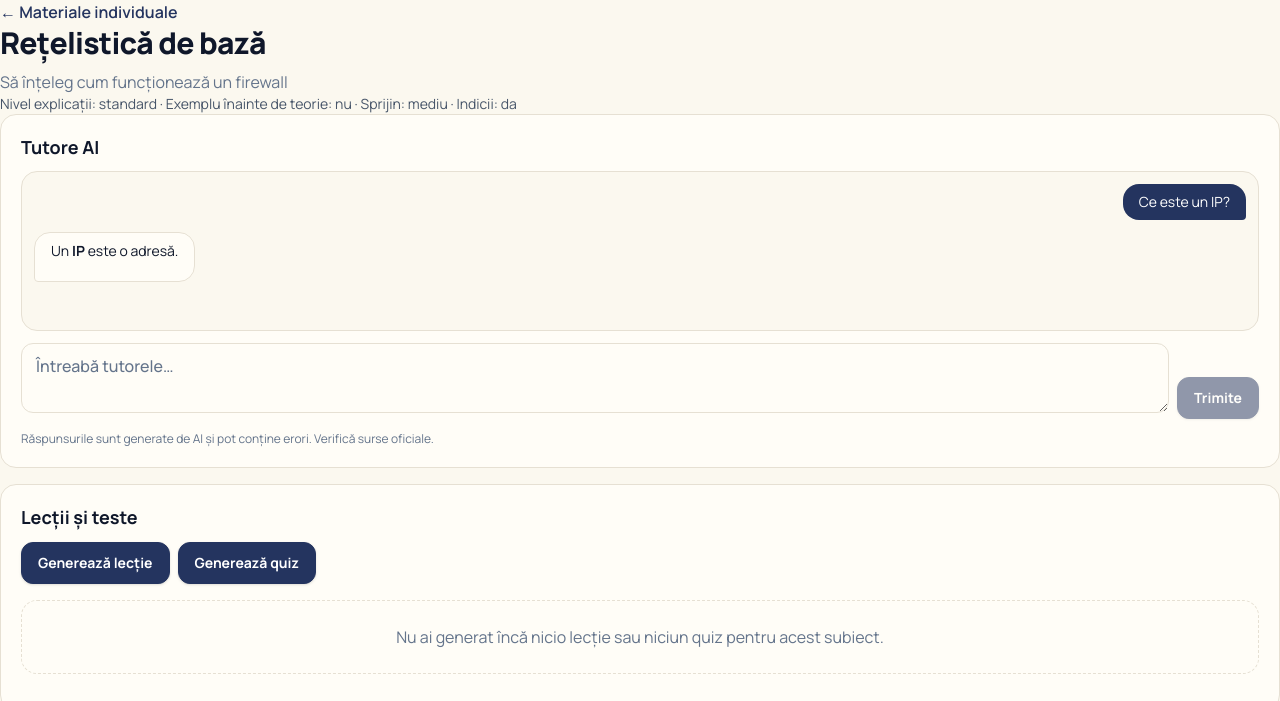
Test case: StudentTopicDetailPage › appends the student's message at once and the tutor's reply after a successful send
The width and height of the screenshot is (1280, 701).
Expected: the text "Ce este un IP?" is shown, [1123,184,1246,220]
Type "Dar un port?" into the text box named "Mesajul tău" at [595, 378], box [21,343,1169,413]
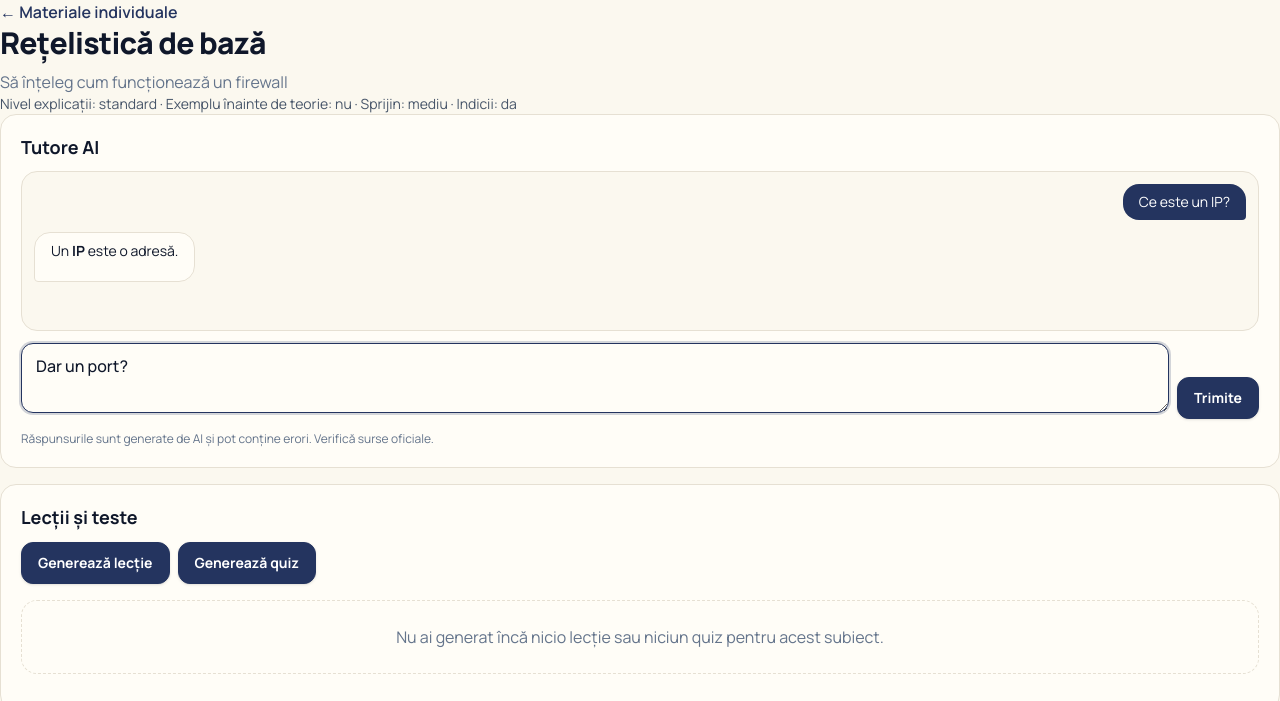
Click the button "Trimite" at [1218, 398], box [1177,377,1259,419]
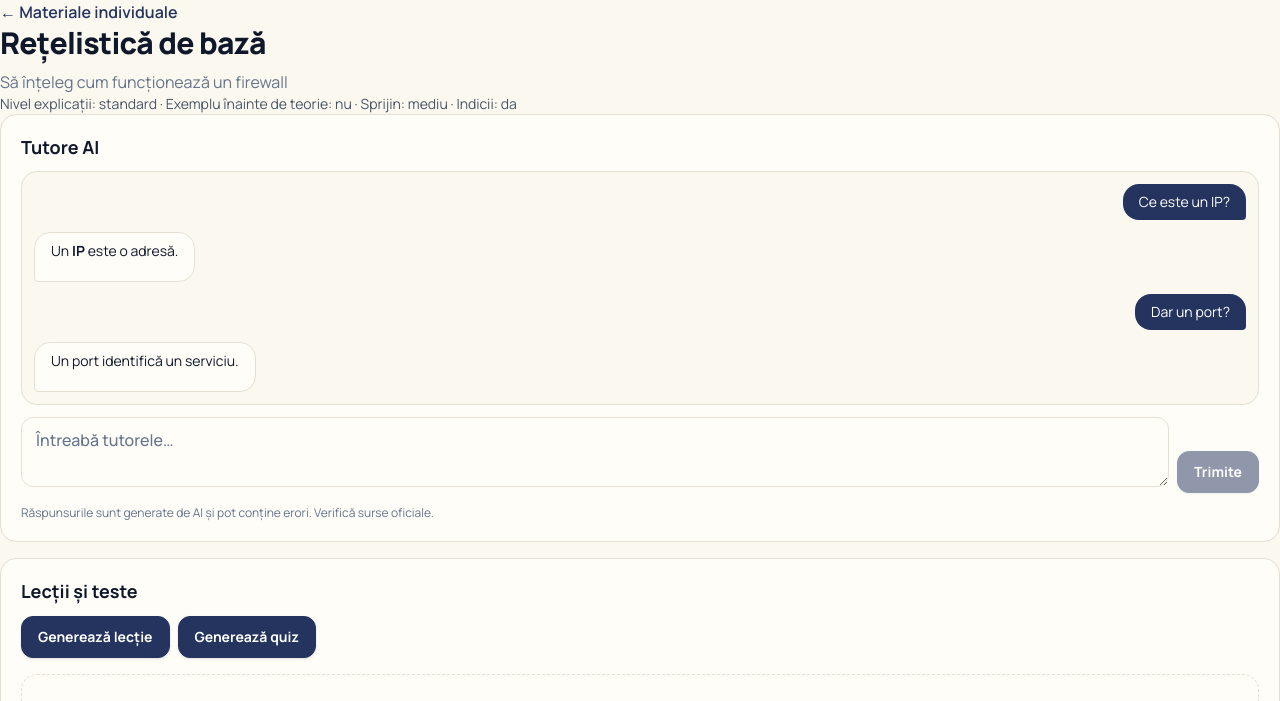
Result: the text "Dar un port?" is shown at [1135,294,1246,330]
Result: the text "Un port identifică un serviciu." is shown at [51,351,238,371]
Result: the text box named "Mesajul tău" is empty at [21,417,1169,487]
